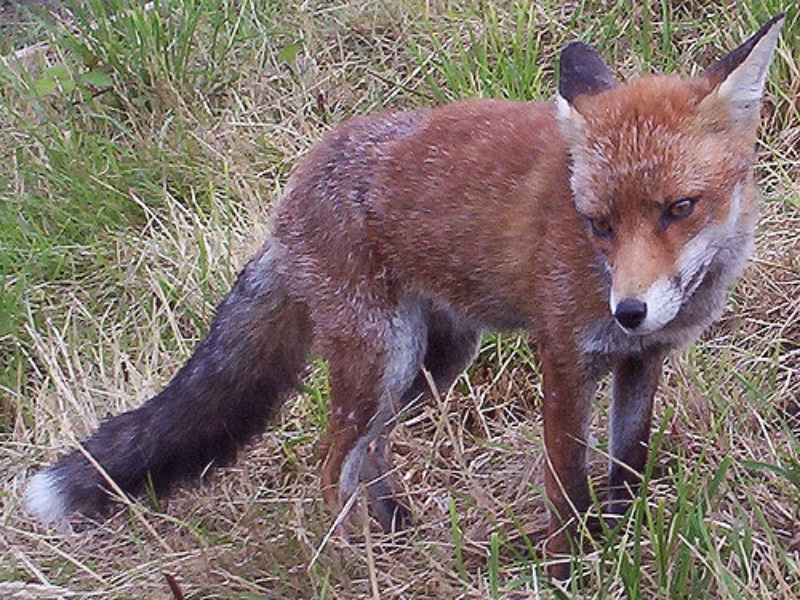fox: (23, 15, 793, 585)
